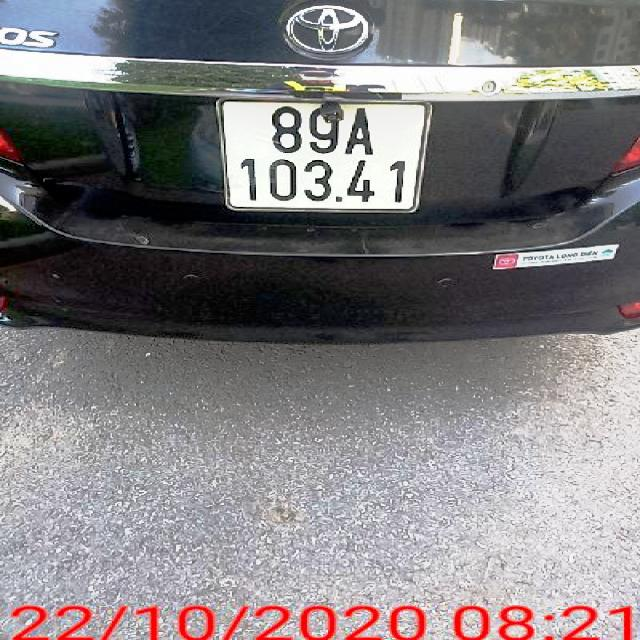license_plate: (220, 100, 434, 210)
